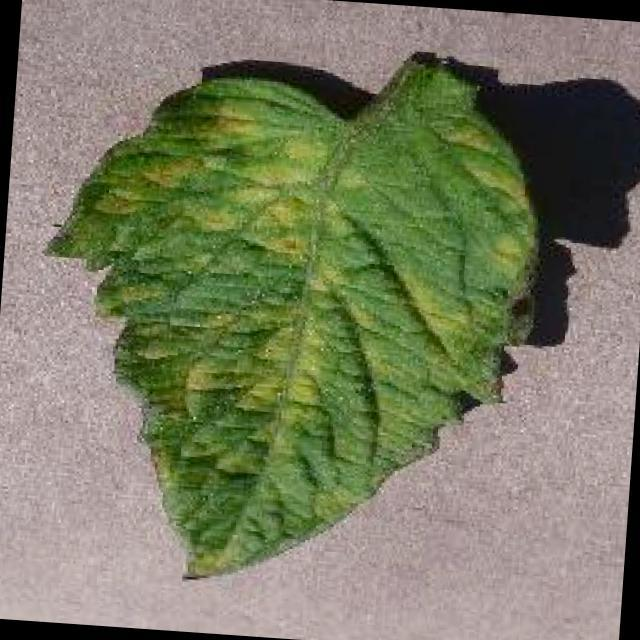Tomato mold leaf: (25, 34, 548, 604)
